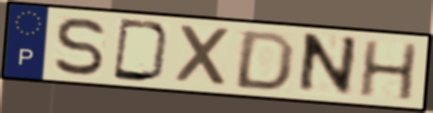D: (230, 28, 299, 93), (110, 17, 174, 85)
H: (355, 39, 421, 103)
N: (293, 31, 361, 99)
S: (51, 16, 108, 78)
X: (174, 22, 236, 89)
